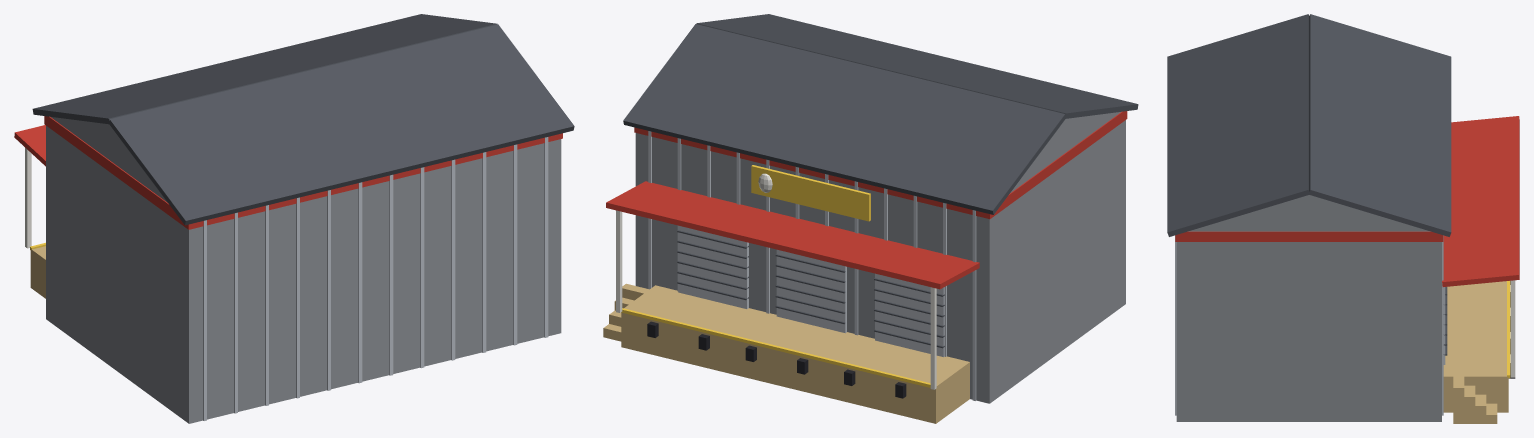
The model's file is Warehouse.fbx.
3 renders of one model, left to right at view 1: azimuth 30°, elevation 25°; view 2: azimuth 150°, elevation 25°; view 3: azimuth 270°, elevation 25°, orthographic. The views are drawn at different scales.
Parts seen in each view (by area): view 1: Warehouse; view 2: Warehouse; view 3: Warehouse.
Part boxes in pixels (box(x1,y1,x2,y2)): Warehouse: box(14, 14, 574, 423); Warehouse: box(603, 14, 1138, 423); Warehouse: box(1167, 14, 1519, 423).
Size of the model in its own units: 1053 by 659 by 892.
